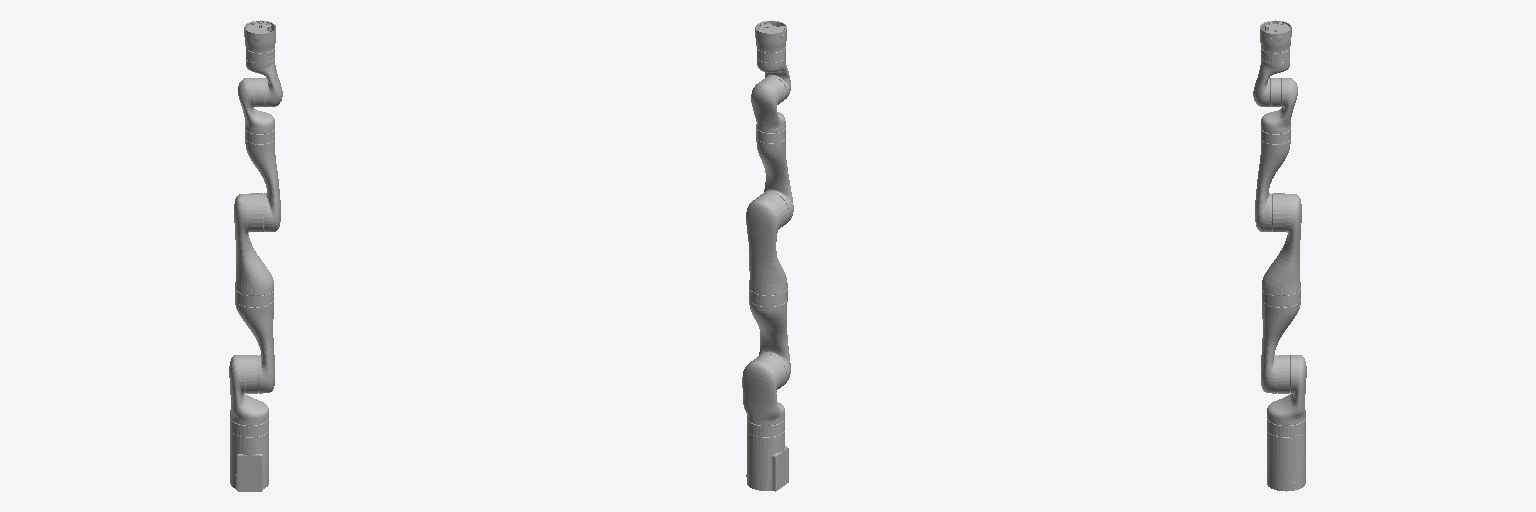
URDF robot description (GEN3_URDF_V12):
<?xml version="1.0"?>
<robot name="GEN3_URDF_V12">
    <link name="base_link">
        <inertial>
            <origin xyz="-0.000648 -0.000166 0.084487" rpy="0 0 0" />
            <mass value="1.697" />
            <inertia ixx="0.004622" ixy="9E-06" ixz="6E-05" iyy="0.004495" iyz="9E-06" izz="0.002079" />
        </inertial>
        <visual>
            <origin xyz="0 0 0" rpy="0 0 0" />
            <geometry>
                <mesh filename="../meshes/base_link.obj" />
            </geometry>
            <material name="">
                <color rgba="0.75294 0.75294 0.75294 1" />
            </material>
        </visual>
        <collision>
            <origin xyz="0 0 0" rpy="0 0 0" />
            <geometry>
                <mesh filename="../meshes/base_link.obj" />
            </geometry>
        </collision>
    </link>
    <link name="shoulder_link">
        <inertial>
            <origin xyz="-2.3E-05 -0.010364 -0.07336" rpy="0 0 0" />
            <mass value="1.3773" />
            <inertia ixx="0.00457" ixy="1E-06" ixz="2E-06" iyy="0.004831" iyz="0.000448" izz="0.001409" />
        </inertial>
        <visual>
            <origin xyz="0 0 0" rpy="0 0 0" />
            <geometry>
                <mesh filename="../meshes/shoulder_link.obj" />
            </geometry>
            <material name="">
                <color rgba="0.75294 0.75294 0.75294 1" />
            </material>
        </visual>
        <collision>
            <origin xyz="0 0 0" rpy="0 0 0" />
            <geometry>
                <mesh filename="../meshes/shoulder_link.obj" />
            </geometry>
        </collision>
    </link>
    <joint name="Actuator1" type="continuous">
        <origin xyz="0 0 0.15643" rpy="3.1416 2.7629E-18 -4.9305E-36" />
        <parent link="base_link" />
        <child link="shoulder_link" />
        <axis xyz="0 0 1" />
        <limit effort="39" velocity="0.8727" />
        <dynamics damping="3.0" friction="0.0"/>
    </joint>
    <link name="half_arm_1_link">
        <inertial>
            <origin xyz="-4.4E-05 -0.09958 -0.013278" rpy="0 0 0" />
            <mass value="1.1636" />
            <inertia ixx="0.011088" ixy="5E-06" ixz="0" iyy="0.001072" iyz="-0.000691" izz="0.011255" />
        </inertial>
        <visual>
            <origin xyz="0 0 0" rpy="0 0 0" />
            <geometry>
                <mesh filename="../meshes/half_arm_1_link.obj" />
            </geometry>
            <material name="">
                <color rgba="0.75294 0.75294 0.75294 1" />
            </material>
        </visual>
        <collision>
            <origin xyz="0 0 0" rpy="0 0 0" />
            <geometry>
                <mesh filename="../meshes/half_arm_1_link.obj" />
            </geometry>
        </collision>
    </link>
    <joint name="Actuator2" type="revolute">
        <origin xyz="0 0.005375 -0.12838" rpy="1.5708 2.1343E-17 -1.1102E-16" />
        <parent link="shoulder_link" />
        <child link="half_arm_1_link" />
        <axis xyz="0 0 1" />
        <limit lower="-2.41" upper="2.41" effort="39" velocity="0.8727" />
        <dynamics damping="3.0" friction="0.0"/>
    </joint>
    <link name="half_arm_2_link">
        <inertial>
            <origin xyz="-4.4E-05 -0.006641 -0.117892" rpy="0 0 0" />
            <mass value="1.1636" />
            <inertia ixx="0.010932" ixy="0" ixz="-7E-06" iyy="0.011127" iyz="0.000606" izz="0.001043" />
        </inertial>
        <visual>
            <origin xyz="0 0 0" rpy="0 0 0" />
            <geometry>
                <mesh filename="../meshes/half_arm_2_link.obj" />
            </geometry>
            <material name="">
                <color rgba="0.75294 0.75294 0.75294 1" />
            </material>
        </visual>
        <collision>
            <origin xyz="0 0 0" rpy="0 0 0" />
            <geometry>
                <mesh filename="../meshes/half_arm_2_link.obj" />
            </geometry>
        </collision>
    </link>
    <joint name="Actuator3" type="continuous">
        <origin xyz="0 -0.21038 -0.006375" rpy="-1.5708 1.2326E-32 -2.9122E-16" />
        <parent link="half_arm_1_link" />
        <child link="half_arm_2_link" />
        <axis xyz="0 0 1" />
        <limit effort="39" velocity="0.8727" />
        <dynamics damping="3.0" friction="0.0"/>
    </joint>
    <link name="forearm_link">
        <inertial>
            <origin xyz="-1.8E-05 -0.075478 -0.015006" rpy="0 0 0" />
            <mass value="0.9302" />
            <inertia ixx="0.008147" ixy="-1E-06" ixz="0" iyy="0.000631" iyz="-0.0005" izz="0.008316" />
        </inertial>
        <visual>
            <origin xyz="0 0 0" rpy="0 0 0" />
            <geometry>
                <mesh filename="../meshes/forearm_link.obj" />
            </geometry>
            <material name="">
                <color rgba="0.75294 0.75294 0.75294 1" />
            </material>
        </visual>
        <collision>
            <origin xyz="0 0 0" rpy="0 0 0" />
            <geometry>
                <mesh filename="../meshes/forearm_link.obj" />
            </geometry>
        </collision>
    </link>
    <joint name="Actuator4" type="revolute">
        <origin xyz="0 0.006375 -0.21038" rpy="1.5708 -6.6954E-17 -1.6653E-16" />
        <parent link="half_arm_2_link" />
        <child link="forearm_link" />
        <axis xyz="0 0 1" />
        <limit lower="-2.66" upper="2.66" effort="39" velocity="0.8727" />
        <dynamics damping="3.0" friction="0.0"/>
    </joint>
    <link name="spherical_wrist_1_link">
        <inertial>
            <origin xyz="1E-06 -0.009432 -0.063883" rpy="0 0 0" />
            <mass value="0.6781" />
            <inertia ixx="0.001596" ixy="0" ixz="0" iyy="0.001607" iyz="0.000256" izz="0.000399" />
        </inertial>
        <visual>
            <origin xyz="0 0 0" rpy="0 0 0" />
            <geometry>
                <mesh filename="../meshes/spherical_wrist_1_link.obj" />
            </geometry>
            <material name="">
                <color rgba="0.75294 0.75294 0.75294 1" />
            </material>
        </visual>
        <collision>
            <origin xyz="0 0 0" rpy="0 0 0" />
            <geometry>
                <mesh filename="../meshes/spherical_wrist_1_link.obj" />
            </geometry>
        </collision>
    </link>
    <joint name="Actuator5" type="continuous">
        <origin xyz="0 -0.20843 -0.006375" rpy="-1.5708 2.2204E-16 -6.373E-17" />
        <parent link="forearm_link" />
        <child link="spherical_wrist_1_link" />
        <axis xyz="0 0 1" />
        <limit effort="9" velocity="0.8727" />
        <dynamics damping="2.0" friction="0.0"/>
    </joint>
    <link name="spherical_wrist_2_link">
        <inertial>
            <origin xyz="1E-06 -0.045483 -0.00965" rpy="0 0 0" />
            <mass value="0.6781" />
            <inertia ixx="0.001641" ixy="0" ixz="0" iyy="0.00041" iyz="-0.000278" izz="0.001641" />
        </inertial>
        <visual>
            <origin xyz="0 0 0" rpy="0 0 0" />
            <geometry>
                <mesh filename="../meshes/spherical_wrist_2_link.obj" />
            </geometry>
            <material name="">
                <color rgba="0.75294 0.75294 0.75294 1" />
            </material>
        </visual>
        <collision>
            <origin xyz="0 0 0" rpy="0 0 0" />
            <geometry>
                <mesh filename="../meshes/spherical_wrist_2_link.obj" />
            </geometry>
        </collision>
    </link>
    <joint name="Actuator6" type="revolute">
        <origin xyz="0 0.00017505 -0.10593" rpy="1.5708 9.2076E-28 -8.2157E-15" />
        <parent link="spherical_wrist_1_link" />
        <child link="spherical_wrist_2_link" />
        <axis xyz="0 0 1" />
        <limit lower="-2.23" upper="2.23" effort="9" velocity="0.8727" />
        <dynamics damping="2.0" friction="0.0"/>
    </joint>
    <link name="bracelet_no_vision_link">
        <inertial>
            <origin xyz="-0.000281 -0.011402 -0.029798" rpy="0 0 0" />
            <mass value="0.5006" />
            <inertia ixx="0.000587" ixy="3E-06" ixz="3E-06" iyy="0.000369" iyz="0.000118" izz="0.000609" />
        </inertial>
        <visual>
            <origin xyz="0 0 0" rpy="0 0 0" />
            <geometry>
                <mesh filename="../meshes/bracelet_no_vision_link.obj" />
            </geometry>
            <material name="">
                <color rgba="0.75294 0.75294 0.75294 1" />
            </material>
        </visual>
        <collision>
            <origin xyz="0 0 0" rpy="0 0 0" />
            <geometry>
                <mesh filename="../meshes/bracelet_no_vision_link.obj" />
            </geometry>
        </collision>
    </link>
    <joint name="Actuator7" type="continuous">
        <origin xyz="0 -0.10593 -0.00017505" rpy="-1.5708 -5.5511E-17 9.6396E-17" />
        <parent link="spherical_wrist_2_link" />
        <child link="bracelet_no_vision_link" />
        <axis xyz="0 0 1" />
        <limit effort="9" velocity="0.8727" />
        <dynamics damping="2.0" friction="0.0"/>
    </joint>
    <link name="end_effector_link" />
    <joint name="EndEffector" type="fixed">
        <origin xyz="0 0 -0.0615250000000001" rpy="3.14159265358979 1.09937075168372E-32 0" />
        <parent link="bracelet_no_vision_link" />
        <child link="end_effector_link" />
        <axis xyz="0 0 0" />
    </joint>
    
    <transmission name="Actuator1_transmission" >
        <type>transmission_interface/SimpleTransmission</type>
        <joint name="Actuator1" />
        <actuator name="motor_1" />
    </transmission>
    <transmission name="Actuator2_transmission" >
        <type>transmission_interface/SimpleTransmission</type>
        <joint name="Actuator2" />
        <actuator name="motor_2" />
    </transmission>
    <transmission name="Actuator3_transmission" >
        <type>transmission_interface/SimpleTransmission</type>
        <joint name="Actuator3" />
        <actuator name="motor_3" />
    </transmission>
    <transmission name="Actuator4_transmission" >
        <type>transmission_interface/SimpleTransmission</type>
        <joint name="Actuator4" />
        <actuator name="motor_4" />
    </transmission>
    <transmission name="Actuator5_transmission" >
        <type>transmission_interface/SimpleTransmission</type>
        <joint name="Actuator5" />
        <actuator name="motor_5" />
    </transmission>
    <transmission name="Actuator6_transmission" >
        <type>transmission_interface/SimpleTransmission</type>
        <joint name="Actuator6" />
        <actuator name="motor_6" />
    </transmission>
    <transmission name="Actuator7_transmission" >
        <type>transmission_interface/SimpleTransmission</type>
        <joint name="Actuator7" />
        <actuator name="motor_7" />
    </transmission>
</robot>

--- What the picture shows (computed from the rendered views, not written in the file) ---
Views: 3 orthographic renders of the robot side by side, from view 1: azimuth 90°, elevation 25°; view 2: azimuth 150°, elevation 25°; view 3: azimuth 270°, elevation 25°.
Model GEN3_URDF_V12 with 9 links and 8 joints (3 revolute, 4 continuous, 1 fixed), rooted at base_link, posed every joint at zero.
Links seen in each view (by area): view 1: half_arm_2_link, base_link, half_arm_1_link, shoulder_link, forearm_link, spherical_wrist_1_link, spherical_wrist_2_link, bracelet_no_vision_link; view 2: half_arm_2_link, base_link, shoulder_link, half_arm_1_link, forearm_link, spherical_wrist_1_link, bracelet_no_vision_link, spherical_wrist_2_link; view 3: half_arm_2_link, base_link, half_arm_1_link, shoulder_link, forearm_link, spherical_wrist_1_link, spherical_wrist_2_link, bracelet_no_vision_link.
Boxes of the visible links, x1=… form: half_arm_2_link: x1=234, y1=193, x2=273, y2=295; base_link: x1=230, y1=418, x2=268, y2=491; half_arm_1_link: x1=235, y1=288, x2=274, y2=393; shoulder_link: x1=229, y1=355, x2=268, y2=425; forearm_link: x1=245, y1=128, x2=280, y2=231; spherical_wrist_1_link: x1=238, y1=78, x2=274, y2=133; spherical_wrist_2_link: x1=246, y1=48, x2=282, y2=106; bracelet_no_vision_link: x1=244, y1=20, x2=275, y2=52; half_arm_2_link: x1=746, y1=192, x2=788, y2=295; base_link: x1=746, y1=420, x2=788, y2=491; shoulder_link: x1=742, y1=354, x2=786, y2=425; half_arm_1_link: x1=749, y1=288, x2=790, y2=385; forearm_link: x1=756, y1=127, x2=793, y2=224; spherical_wrist_1_link: x1=751, y1=76, x2=785, y2=132; bracelet_no_vision_link: x1=755, y1=20, x2=786, y2=52; spherical_wrist_2_link: x1=757, y1=47, x2=790, y2=99; half_arm_2_link: x1=1262, y1=193, x2=1301, y2=295; base_link: x1=1267, y1=418, x2=1305, y2=491; half_arm_1_link: x1=1261, y1=288, x2=1300, y2=393; shoulder_link: x1=1267, y1=355, x2=1306, y2=425; forearm_link: x1=1255, y1=128, x2=1290, y2=231; spherical_wrist_1_link: x1=1261, y1=78, x2=1297, y2=133; spherical_wrist_2_link: x1=1253, y1=48, x2=1289, y2=106; bracelet_no_vision_link: x1=1260, y1=20, x2=1291, y2=52.
Size in the robot's own frame: 0.0928 by 0.1267 by 1.19 metres.
8 mesh visuals loaded from 8 distinct referenced files (8 OBJ).